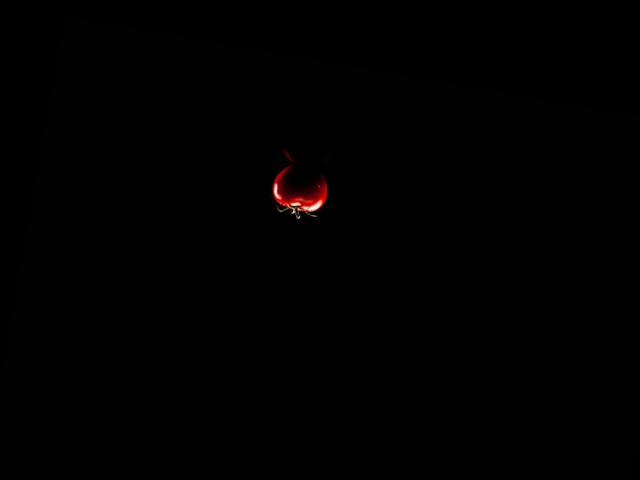tomato: (270, 163, 331, 216)
